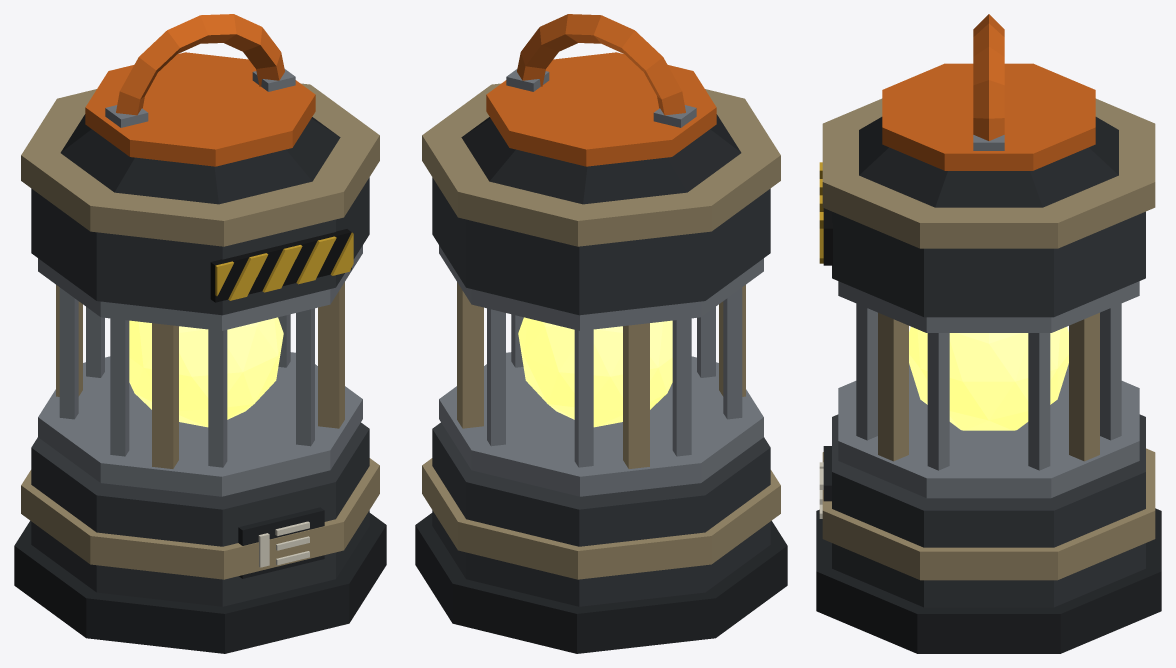
Rendered from sample_pod.fbx.
3 views of the same model, side by side, from view 1: azimuth 30°, elevation 25°; view 2: azimuth 150°, elevation 25°; view 3: azimuth 270°, elevation 25° (orthographic).
Parts seen in each view (by area): view 1: Casing, Glow; view 2: Casing, Glow; view 3: Casing, Glow.
Part boxes in pixels (bbox=[...]): Casing: bbox=[14, 14, 386, 653]; Glow: bbox=[129, 317, 283, 427]; Casing: bbox=[415, 14, 787, 653]; Glow: bbox=[518, 317, 672, 427]; Casing: bbox=[816, 14, 1161, 653]; Glow: bbox=[909, 326, 1068, 430].
Size of the model in its own units: 1.1 by 1.96 by 1.1.
2 materials, 1 textured.
